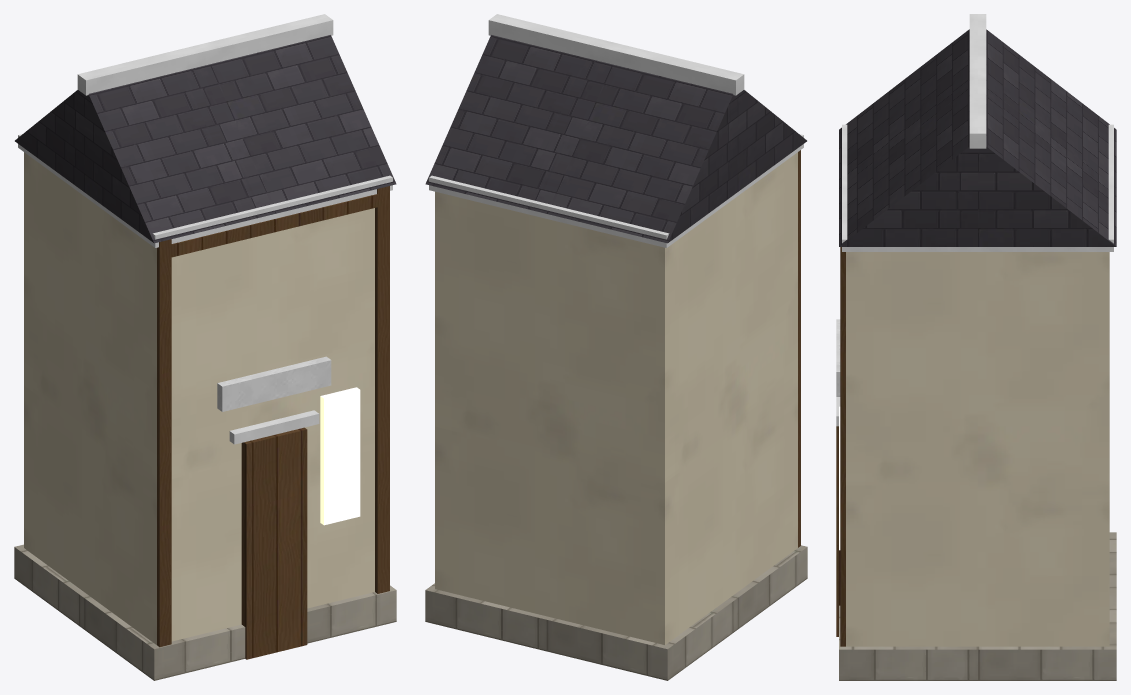
The model's file is category.nft.t4.glb.
The picture shows the model from 3 angles, left to right: view 1: azimuth 30°, elevation 25°; view 2: azimuth 150°, elevation 25°; view 3: azimuth 270°, elevation 25°; orthographic projection.
Visible parts, largest first — view 1: building.category.nft.t4; view 2: building.category.nft.t4; view 3: building.category.nft.t4.
Boxes of the visible parts, x1,y1,x2,y2 form: building.category.nft.t4: [14, 14, 396, 680]; building.category.nft.t4: [425, 14, 807, 680]; building.category.nft.t4: [836, 14, 1116, 680].
Size of the model in its own units: 2.04 by 4.36 by 2.02.
7 materials, 6 textured.
